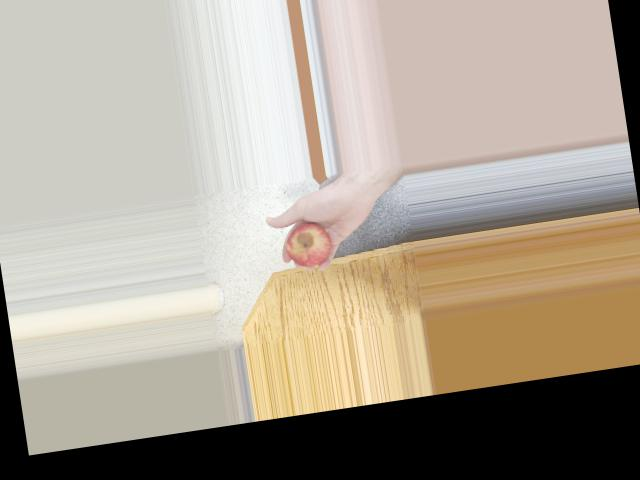apple: (279, 213, 339, 269)
